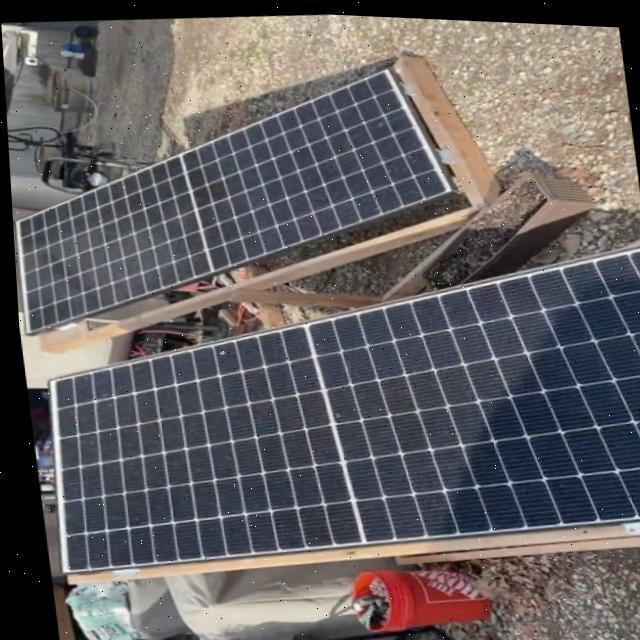Normal Solar Panel: (17, 220, 640, 596), (2, 47, 466, 345)
